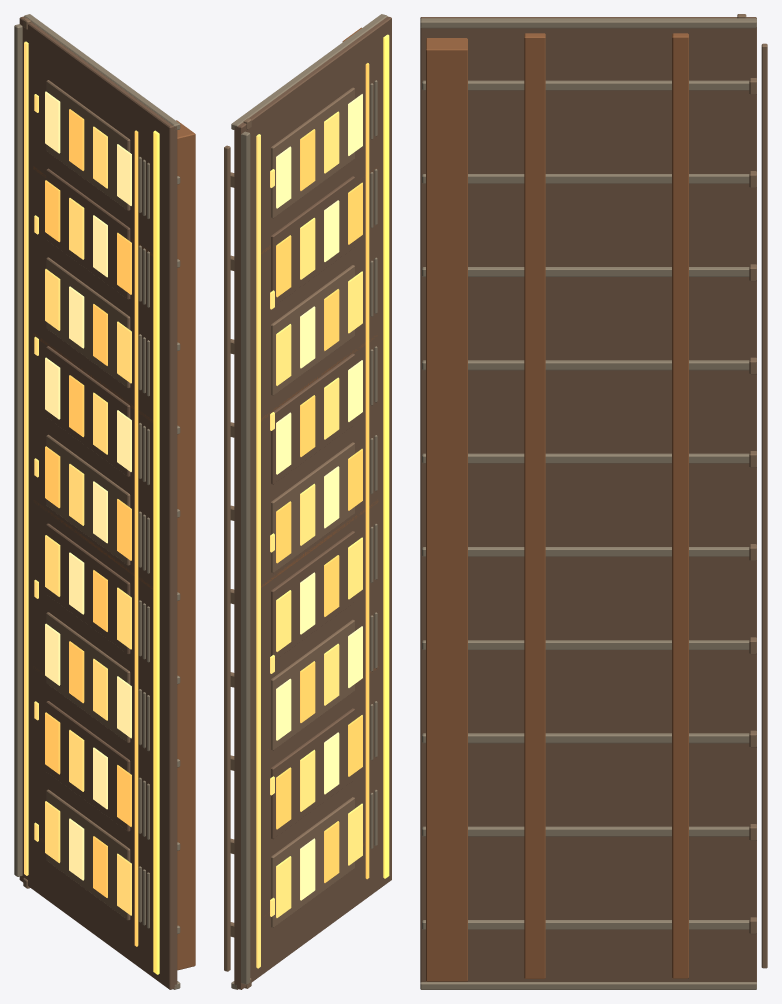
Rendered from wall_ribbon_canyon_r.glb.
3 views of the same model, side by side, from view 1: azimuth 30°, elevation 25°; view 2: azimuth 150°, elevation 25°; view 3: azimuth 270°, elevation 25° (orthographic). The views are drawn at different scales.
Parts seen in each view (by area): view 1: WallRibbon_canyon_R; view 2: WallRibbon_canyon_R; view 3: WallRibbon_canyon_R.
Part boxes in pixels (bbox=[...]): WallRibbon_canyon_R: bbox=[14, 14, 195, 989]; WallRibbon_canyon_R: bbox=[224, 14, 391, 989]; WallRibbon_canyon_R: bbox=[420, 14, 767, 989].
Size of the model in its own units: 0.62 by 14 by 4.54.
